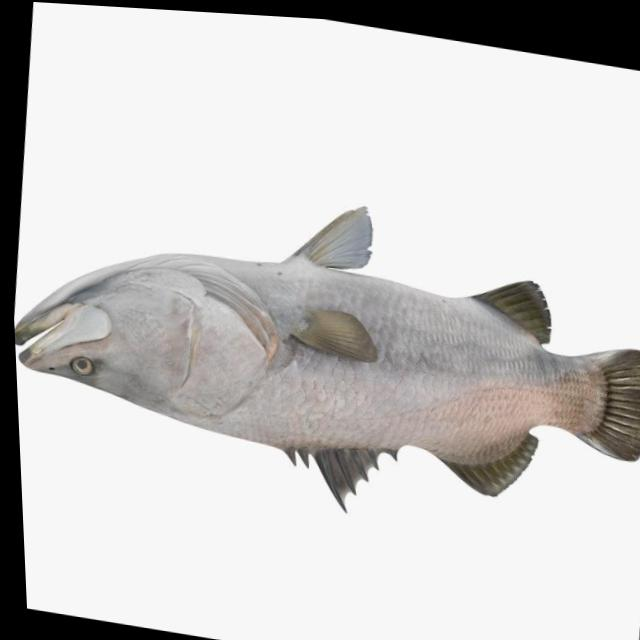Seabass: (7, 148, 640, 564)
